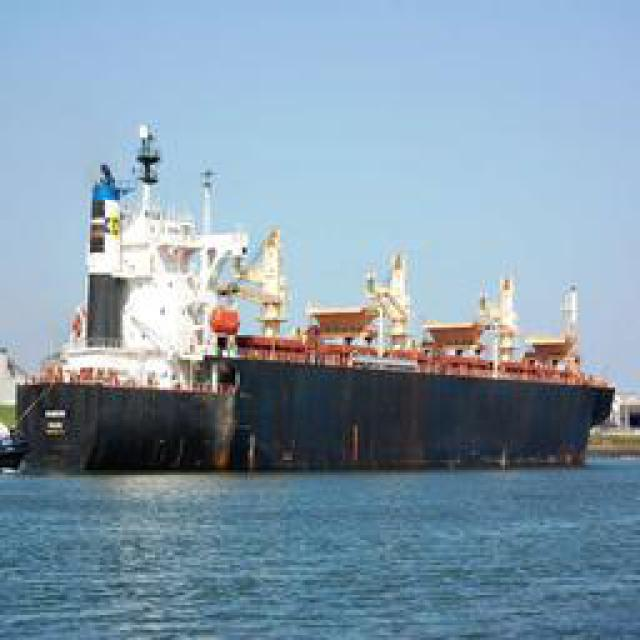Ship: (62, 185, 610, 468)
